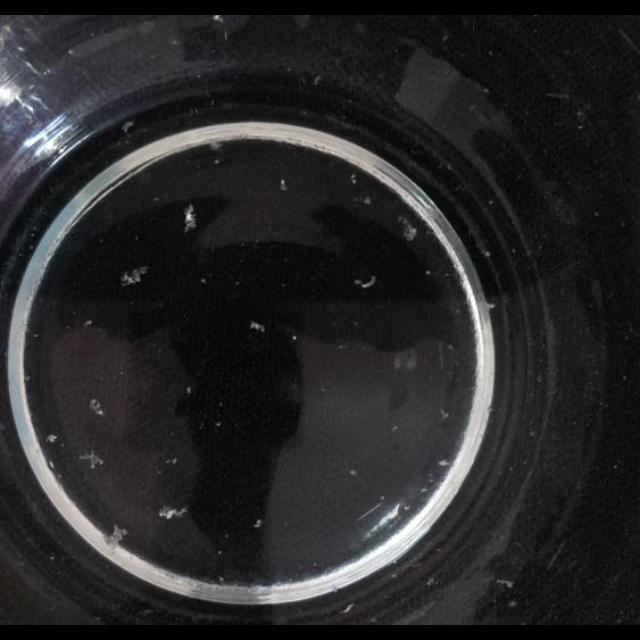Fibre: (120, 266, 150, 286), (158, 504, 190, 522), (398, 216, 418, 242), (80, 450, 104, 470), (182, 204, 198, 232), (89, 398, 105, 417), (358, 276, 376, 288)
Fragment: (101, 525, 127, 551)
microbeads: (250, 321, 264, 332), (122, 121, 134, 133), (440, 408, 450, 420), (278, 179, 288, 191), (46, 433, 58, 443), (166, 456, 178, 464), (438, 459, 450, 467), (314, 74, 322, 86), (350, 173, 358, 184), (362, 196, 372, 204), (420, 485, 430, 493), (254, 518, 262, 528), (486, 302, 496, 310), (508, 600, 518, 608), (349, 469, 358, 477), (85, 318, 94, 326), (391, 424, 399, 432), (22, 375, 30, 383), (215, 420, 222, 428), (213, 158, 220, 166), (185, 386, 192, 394), (200, 278, 208, 284), (594, 210, 600, 218), (426, 270, 432, 276)
